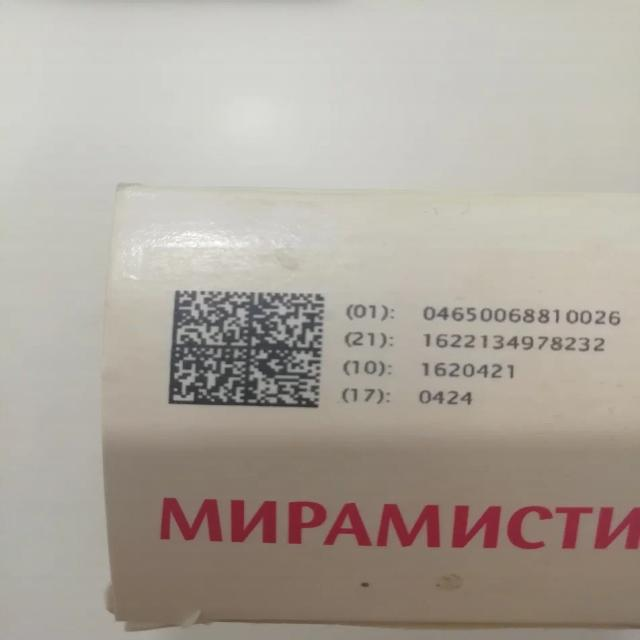datamatrix: (169, 287, 329, 411)
